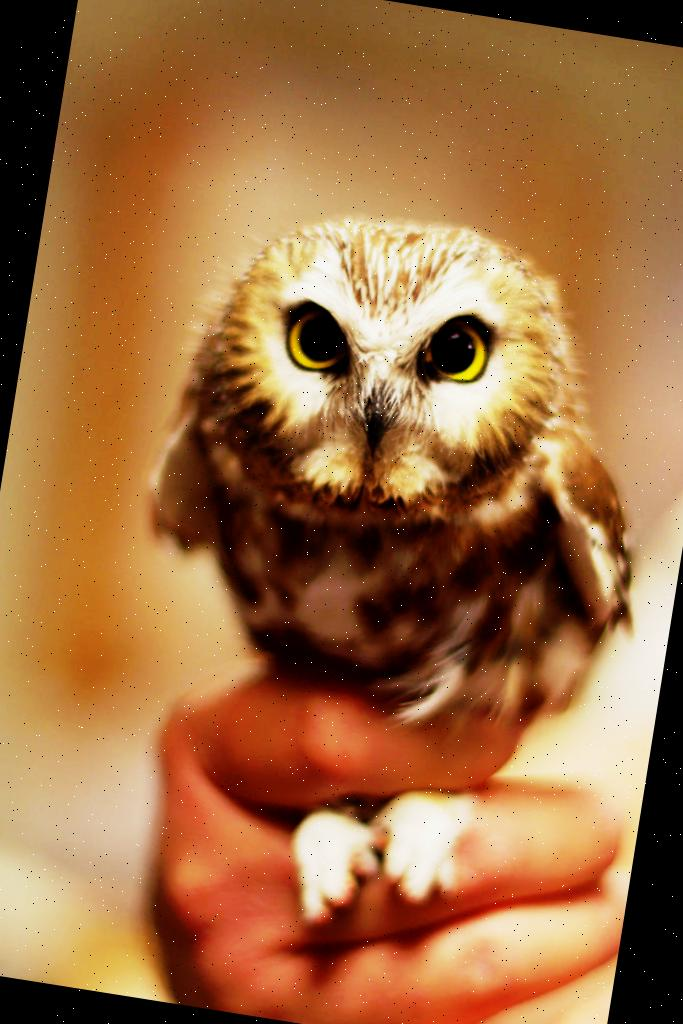Owl: (74, 180, 683, 975)
